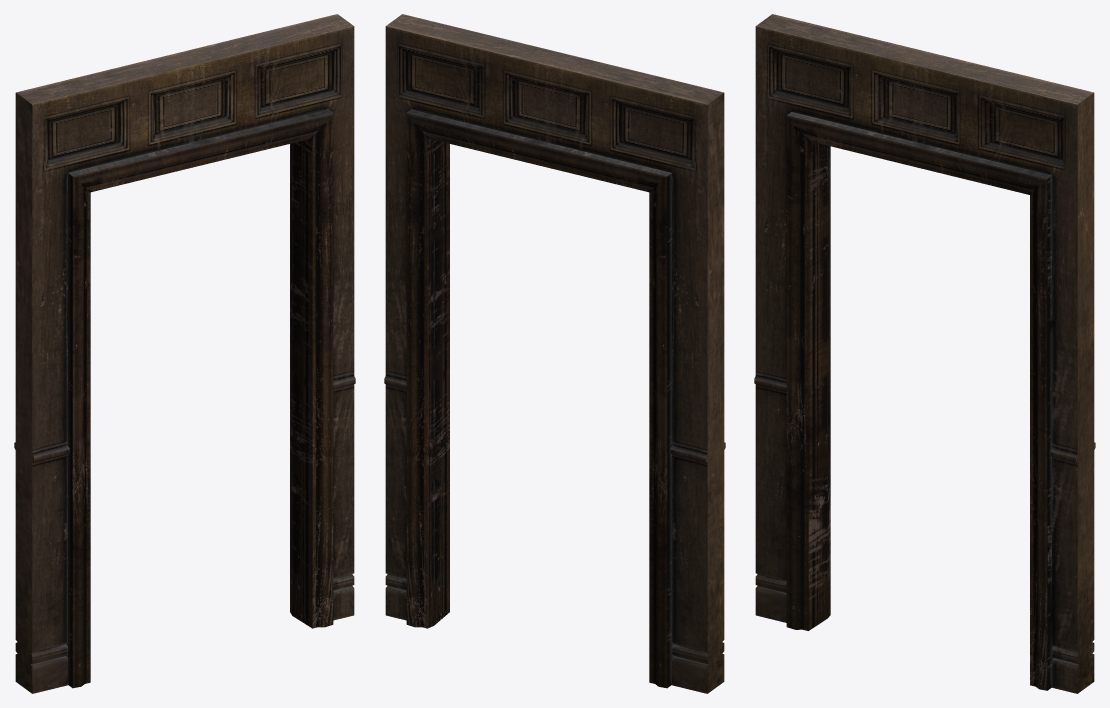
Rendered from Doorway.fbx.
The picture shows the model from 3 angles, left to right: view 1: azimuth 30°, elevation 25°; view 2: azimuth 150°, elevation 25°; view 3: azimuth 330°, elevation 25°; orthographic projection.
Parts seen in each view (by area): view 1: SM_Wall_Door_Wooden_02_LOD0; view 2: SM_Wall_Door_Wooden_02_LOD0; view 3: SM_Wall_Door_Wooden_02_LOD0.
Part boxes in pixels (box(x1,y1,x2,y2)): SM_Wall_Door_Wooden_02_LOD0: box(14, 14, 355, 693); SM_Wall_Door_Wooden_02_LOD0: box(384, 14, 725, 693); SM_Wall_Door_Wooden_02_LOD0: box(754, 14, 1095, 693).
Bounding box in the file's own units: 200 × 350 × 29.95.
